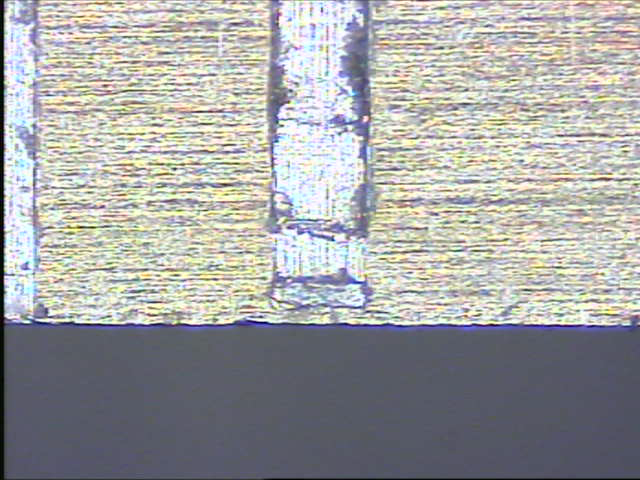line: (263, 1, 372, 309)
